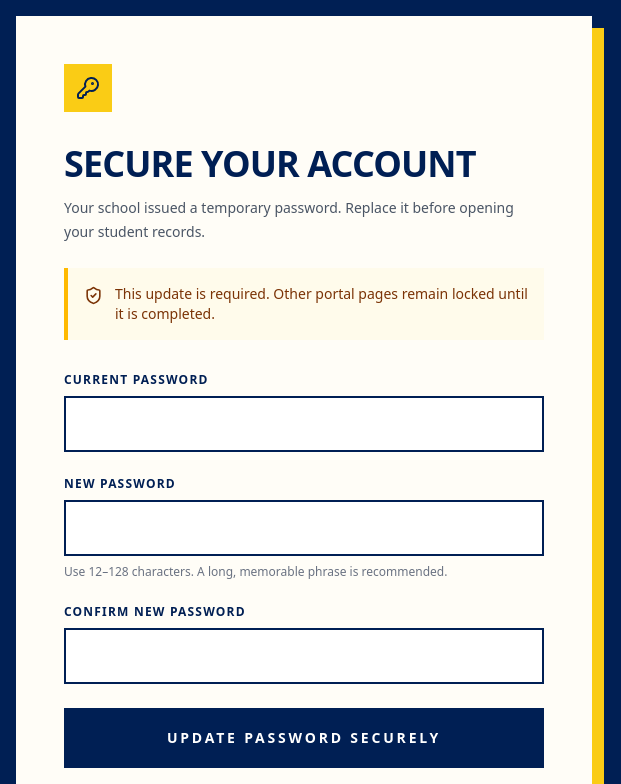
Scenario: PasswordPage › shows backend validation errors without signing out
In the password field labelled "Current password": point(304, 424) [64,396,544,452], type "Temporary-password-2026"
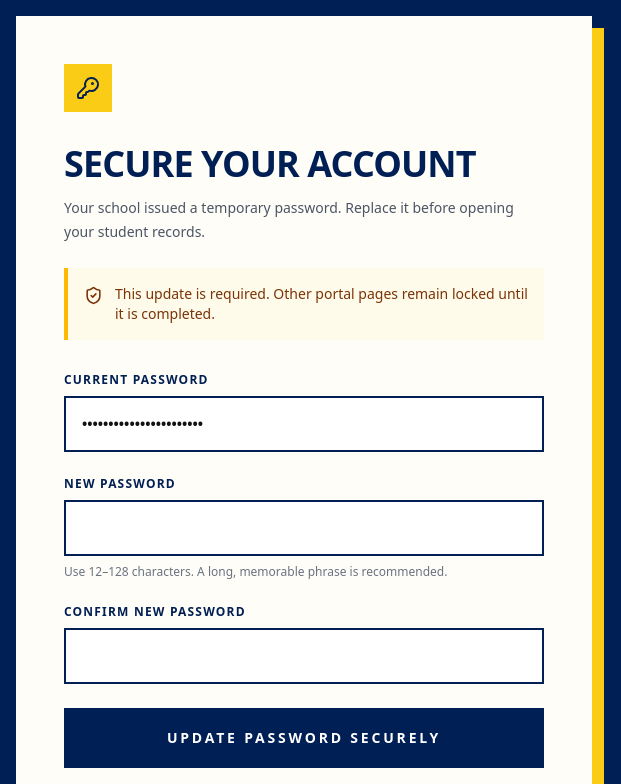
In the password field labelled "New password": point(304, 528) [64,500,544,556], type "A-new-password-2026"
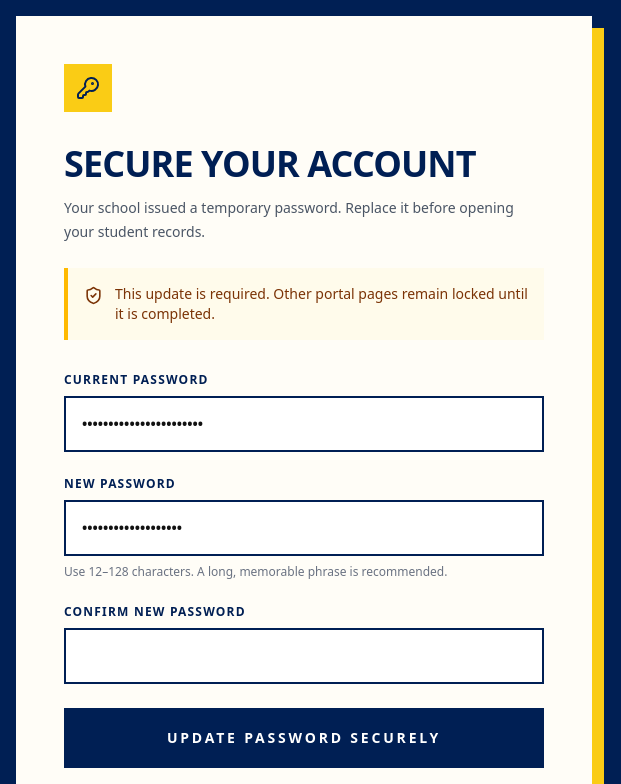
In the password field labelled "Confirm new password": point(304, 656) [64,628,544,684], type "A-new-password-2026"
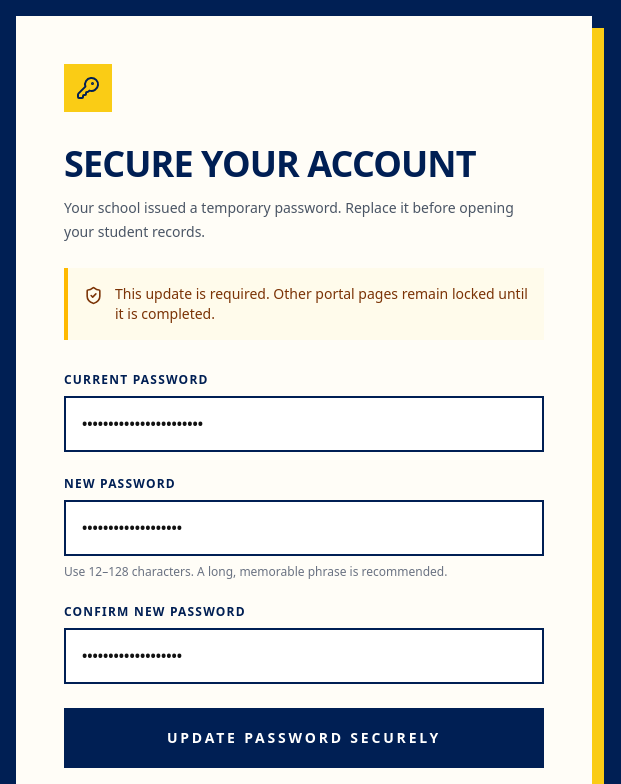
Submit the form named "Update password securely", box [64,372,544,768]
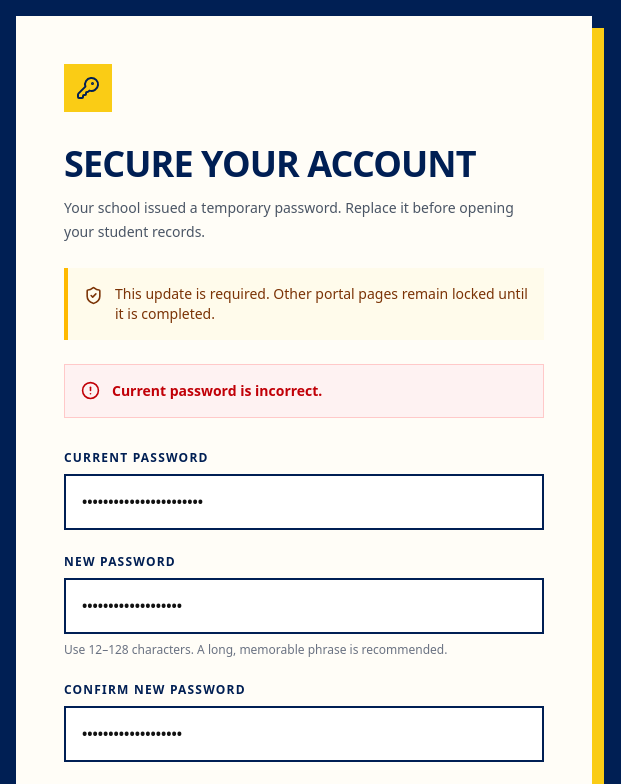
Check: the message reads "Current password is incorrect.", box [112,381,322,400]
